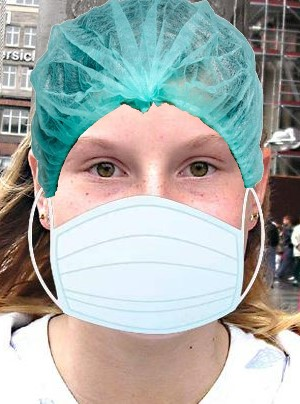with_mask_and_cap: (31, 1, 267, 337)
